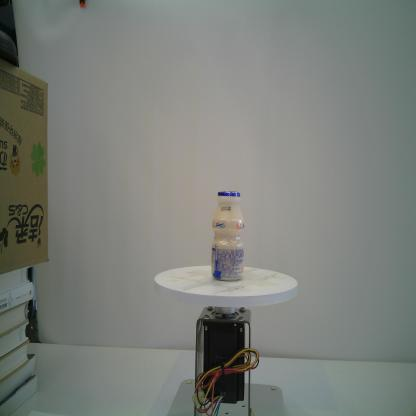Milk: (209, 189, 247, 282)
